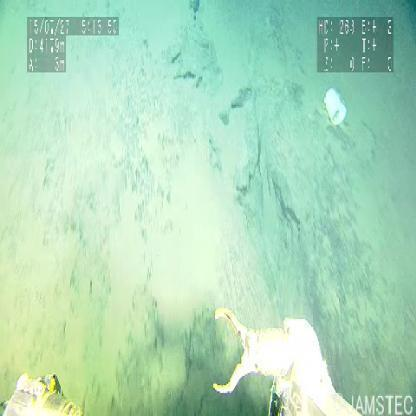Rác: (325, 93, 347, 127)
